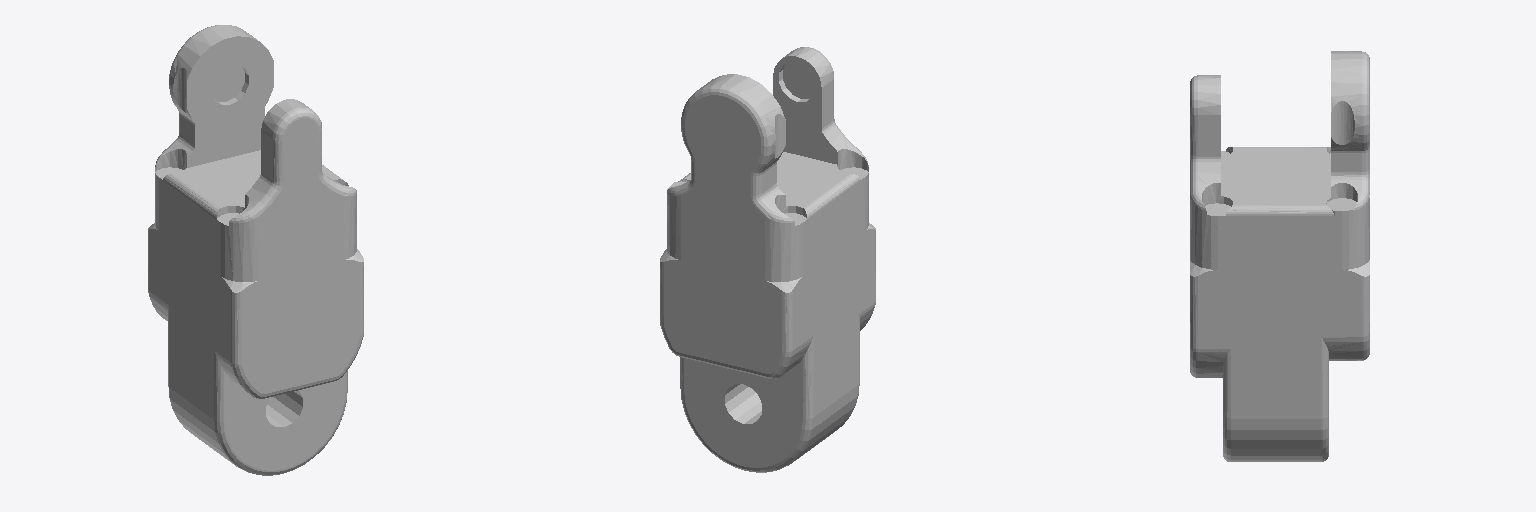
Rendered from tesollo_left_ll_dg_5_3_visuals_ll_dg_5_3_mesh_World_mesh.obj.
3 renders of one model, left to right at view 1: azimuth 30°, elevation 25°; view 2: azimuth 150°, elevation 25°; view 3: azimuth 270°, elevation 25°, orthographic.
Size of the model in its own units: 0.019 by 0.0548 by 0.0224.